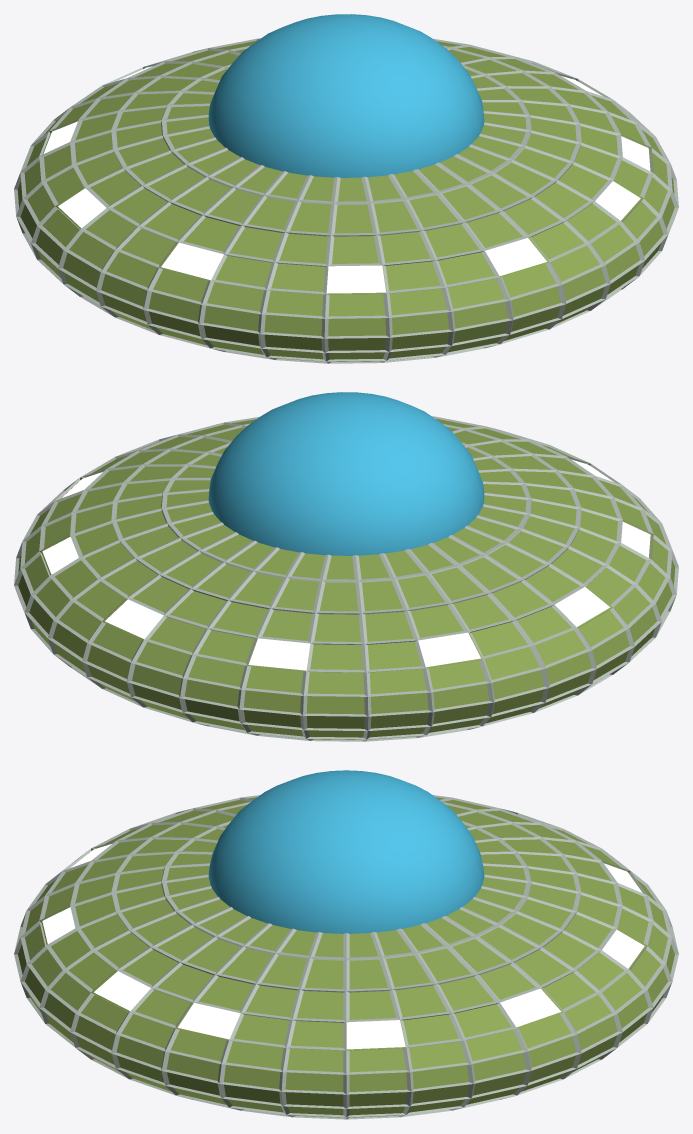
The picture shows the model from 3 angles, top to bottom: view 1: azimuth 30°, elevation 25°; view 2: azimuth 150°, elevation 25°; view 3: azimuth 270°, elevation 25°; orthographic projection.
Parts seen in each view (by area): view 1: Body, Wireframe, Glass, Lights; view 2: Body, Wireframe, Glass, Lights; view 3: Body, Wireframe, Glass, Lights.
Part boxes in pixels (x1=…): Body: x1=17, y1=41, x2=674, y2=361; Wireframe: x1=14, y1=38, x2=678, y2=363; Glass: x1=208, y1=14, x2=484, y2=177; Lights: x1=43, y1=66, x2=650, y2=293; Body: x1=18, y1=419, x2=675, y2=739; Wireframe: x1=14, y1=416, x2=678, y2=741; Glass: x1=208, y1=392, x2=484, y2=555; Lights: x1=42, y1=459, x2=650, y2=670; Body: x1=18, y1=797, x2=674, y2=1117; Wireframe: x1=14, y1=795, x2=678, y2=1119; Glass: x1=208, y1=770, x2=484, y2=933; Lights: x1=42, y1=843, x2=644, y2=1049.
Bounding box in the file's own units: 6.27 × 2.65 × 6.27.
